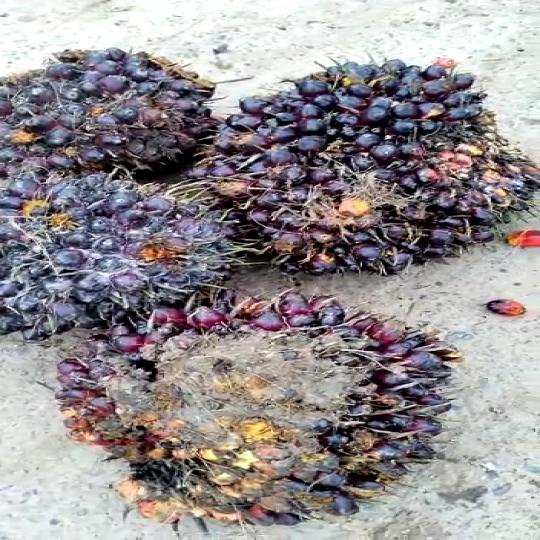kurang masak: (41, 292, 436, 518), (204, 49, 500, 273), (0, 166, 249, 322), (0, 32, 221, 167)
